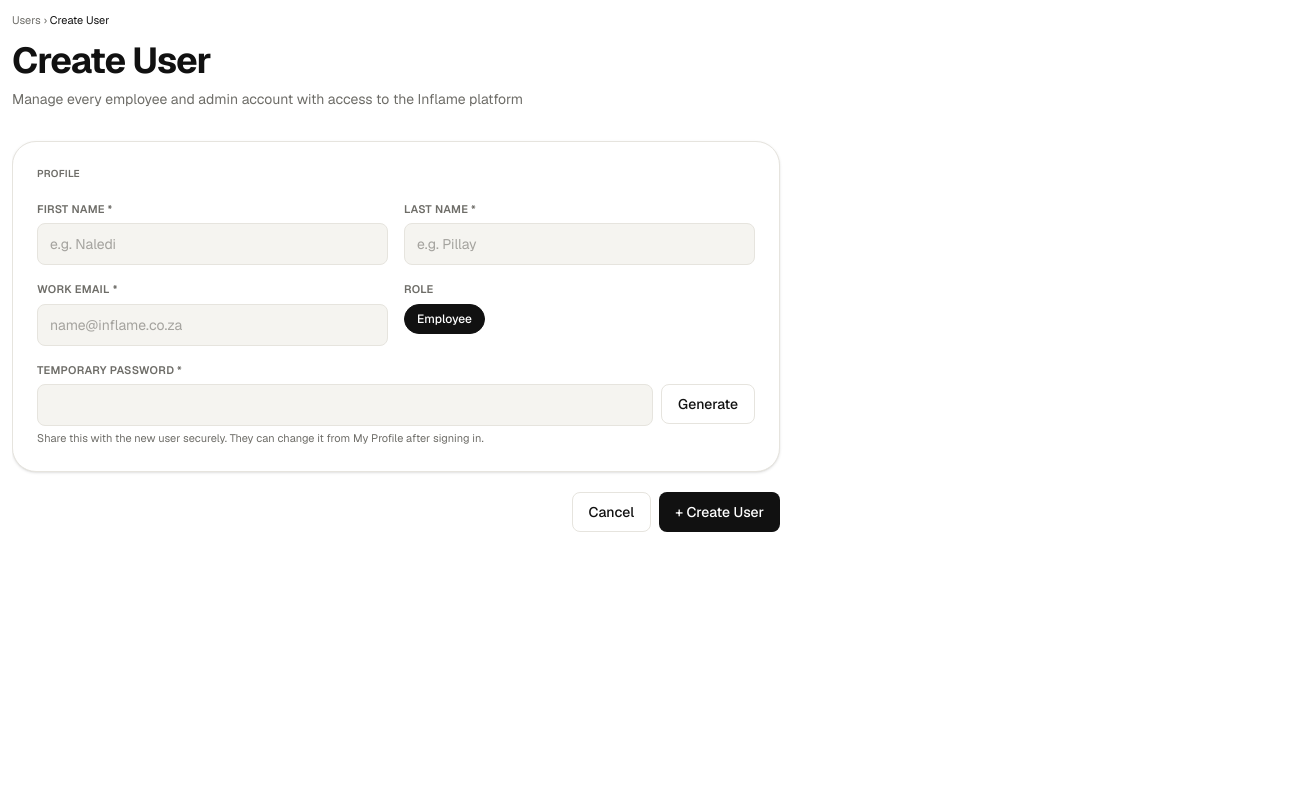
it: validation › rejects an empty form
Click the button "+ Create User" at (720, 512), box [659,492,780,532]
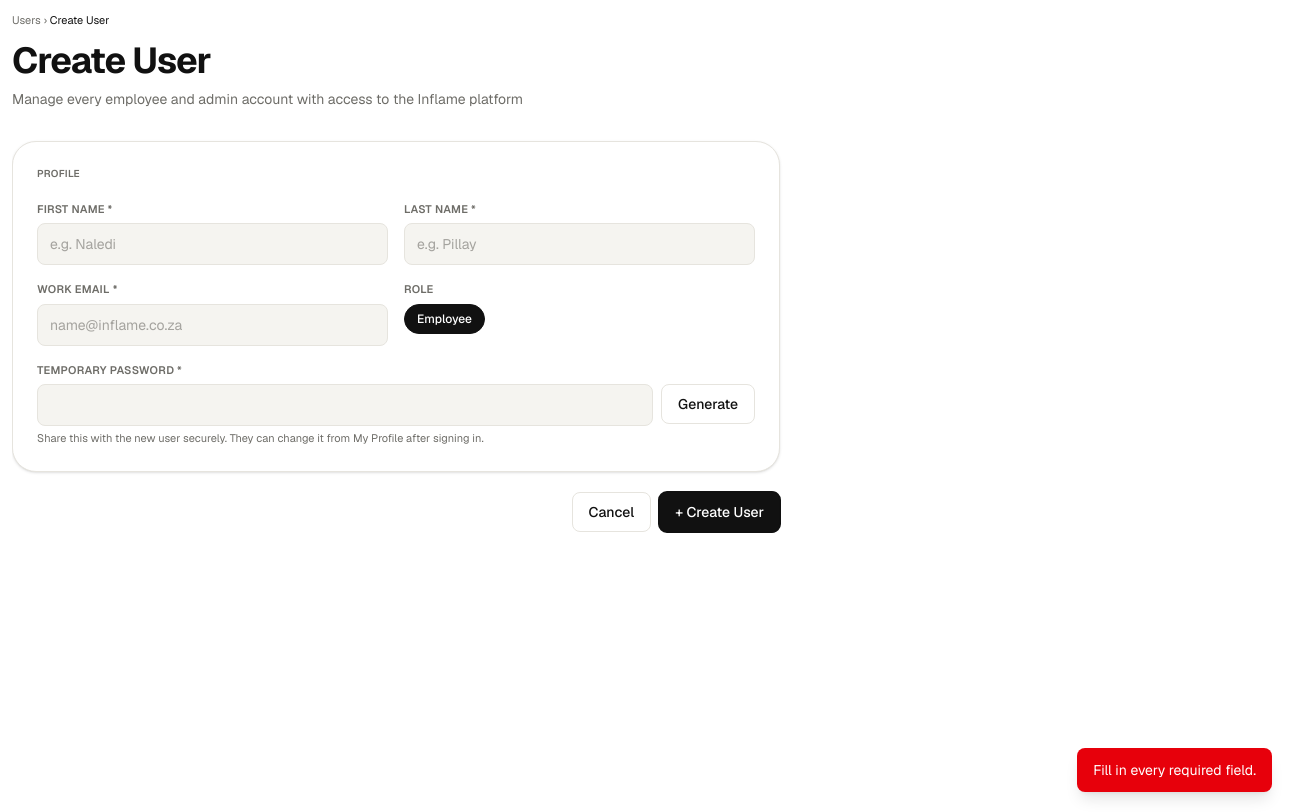
Now the text "Fill in every required field." is shown, box [1077,748,1272,792]
